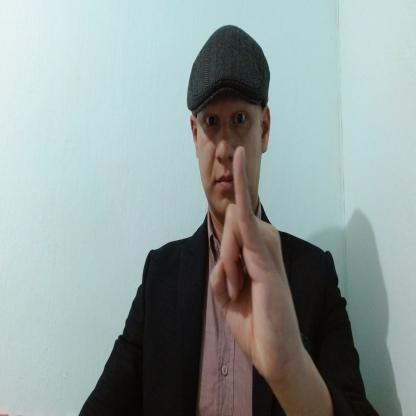I: (208, 146, 302, 378)
